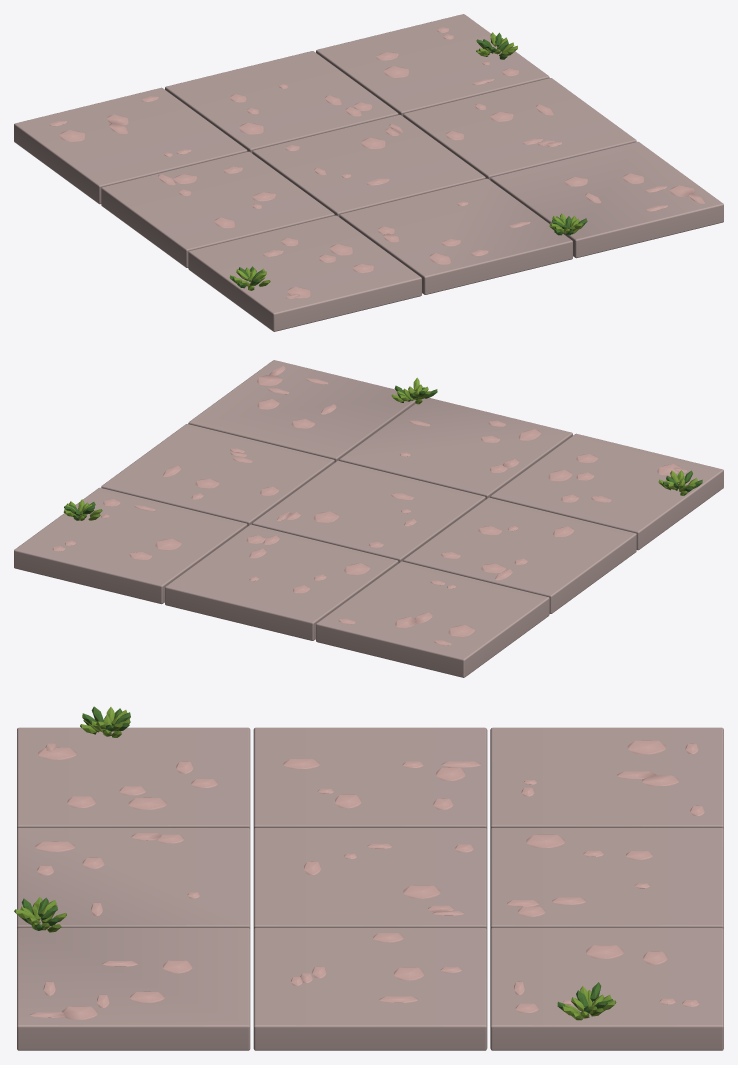
The model's file is house.driveway.empty.glb.
3 views of the same model, one above another, from view 1: azimuth 30°, elevation 25°; view 2: azimuth 150°, elevation 25°; view 3: azimuth 270°, elevation 25° (orthographic). The views are drawn at different scales.
Bounding box in the file's own units: 3.03 × 0.2221 × 3.
